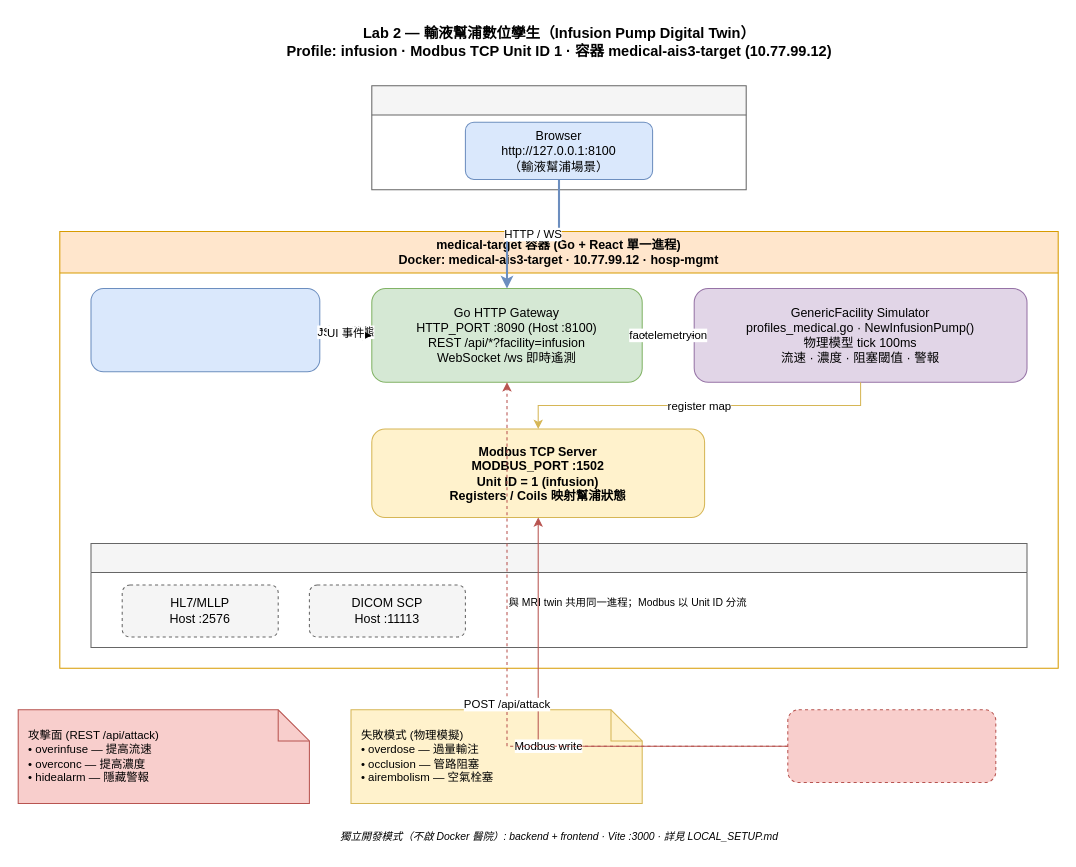
Some shapes in this 1076 by 867 pixel diagram are drawn without their labels. Each missing label, with the box of its shape:
Host: (371, 85, 746, 190)
React / R3F 前端 InfusionScene.tsx 3D 病房輸液幫浦視覺化: (90, 288, 320, 372)
同進程共用 Fuzz Targets（教學用）: (90, 542, 1027, 647)
外部攻擊者 Modbus :1502 Unit 1 或 REST API: (787, 709, 996, 783)
